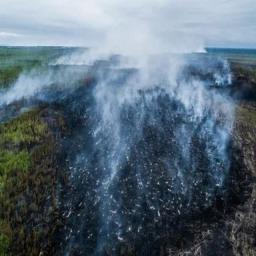Low smoke: (0, 0, 256, 233)
